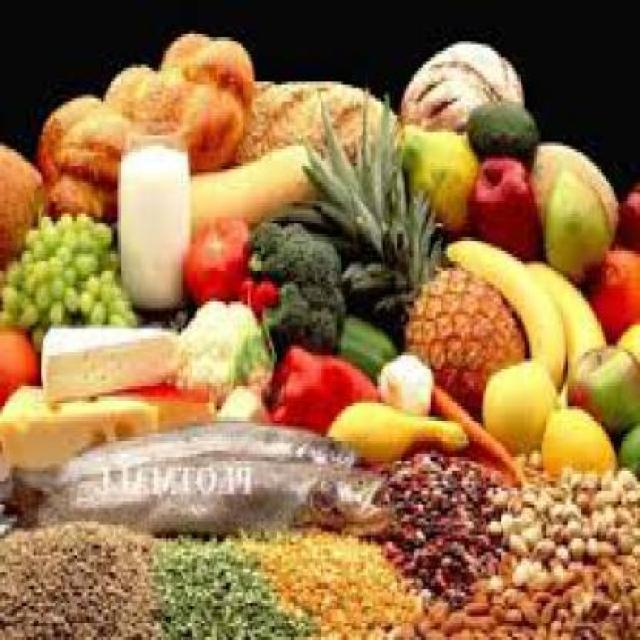BIODEGRADABLE: (41, 27, 258, 213), (298, 78, 452, 322), (3, 461, 397, 532), (10, 414, 361, 491), (2, 515, 168, 636), (236, 532, 429, 636), (406, 552, 639, 638), (376, 447, 504, 602), (486, 460, 639, 583), (448, 234, 568, 389), (407, 261, 527, 410), (156, 532, 313, 636), (2, 206, 140, 322), (2, 379, 160, 467), (241, 71, 399, 155), (528, 254, 610, 414), (531, 139, 624, 278), (253, 217, 349, 346), (192, 138, 320, 231), (44, 318, 185, 400), (122, 136, 190, 298), (404, 37, 527, 121), (183, 295, 277, 399), (272, 342, 386, 427), (327, 396, 471, 461), (402, 122, 484, 233), (434, 378, 529, 471), (471, 149, 544, 257), (486, 355, 563, 451), (570, 342, 638, 432), (188, 209, 252, 302), (2, 135, 48, 257), (546, 403, 620, 474), (469, 99, 542, 166), (590, 240, 638, 340), (135, 386, 216, 429), (380, 348, 435, 410), (2, 318, 41, 400), (222, 376, 272, 416), (614, 178, 638, 248), (242, 272, 280, 312), (621, 314, 639, 366), (623, 416, 639, 464), (531, 447, 544, 464)
